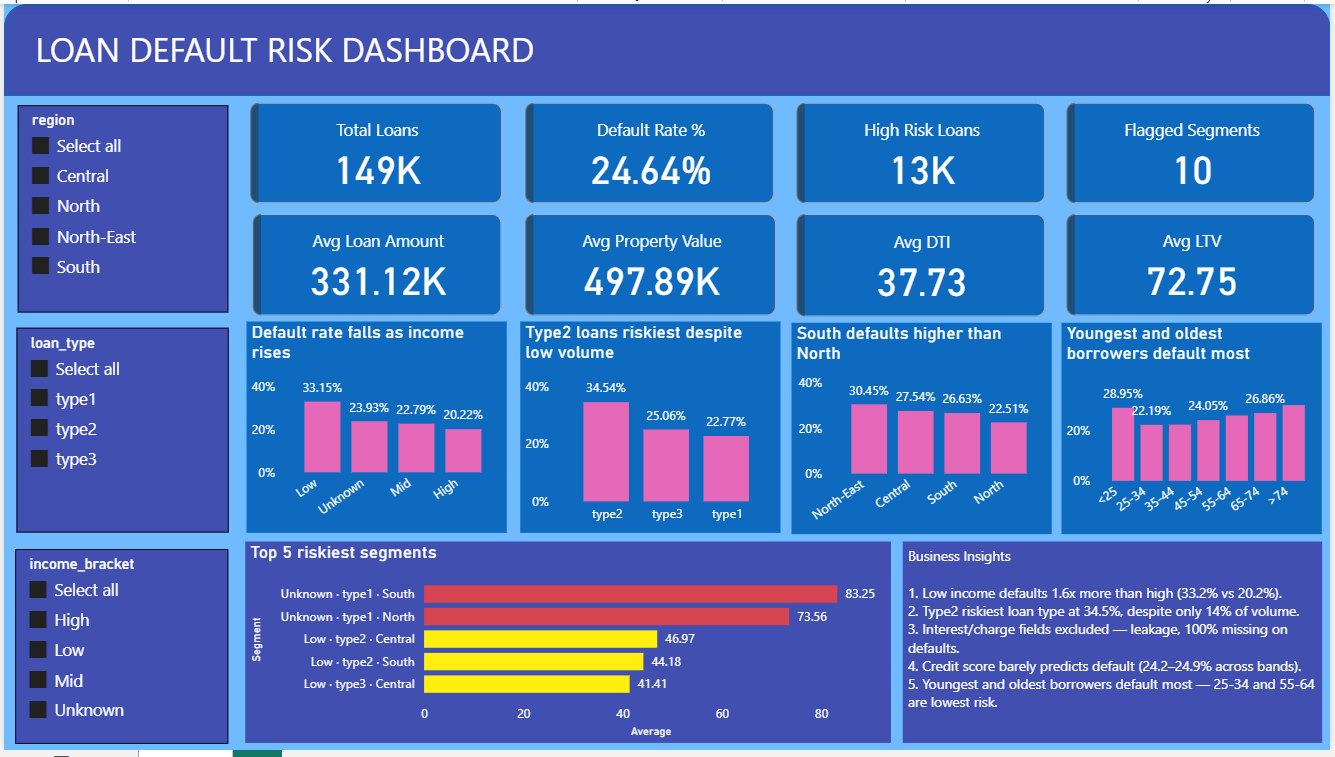

This screenshot's page, from the dashboard's own definition file:
{"tool":"powerbi","page":{"name":"Page 1","canvas":[1280,720],"ordinal":0},"visuals":[{"type":"shape","box":[0,0,1280,88.8],"z":0},{"type":"slicer","fields":{"Values":["public loan_clean.region"]},"box":[13.7,97.4,203.1,200.3],"z":1000},{"type":"cardVisual","fields":{"Data":["public loan_clean.Default Rate %"]},"box":[498.3,90.5,250.9,107.4],"z":2000},{"type":"slicer","fields":{"Values":["public loan_clean.loan_type"]},"box":[12.3,312.9,204.5,197.6],"z":3000},{"type":"cardVisual","fields":{"Data":["public loan_risk_segments.High Risk Loans"]},"box":[760.1,90.5,250.9,107.4],"z":4000},{"type":"slicer","fields":{"Values":["public loan_risk_segments.income_bracket"]},"box":[11,525.6,205.8,188],"z":5000},{"type":"cardVisual","fields":{"Data":["public loan_risk_segments.Flagged Segments"]},"box":[1020.6,90.5,250.9,107.4],"z":6000},{"type":"cardVisual","fields":{"Data":["public loan_clean.Avg Loan Amount"]},"box":[235.3,197.9,250.9,108.6],"z":7000},{"type":"cardVisual","fields":{"Data":["public loan_clean.Avg Property Value"]},"box":[498.3,197.9,252.1,108.6],"z":8000},{"type":"cardVisual","fields":{"Data":["public loan_clean.Avg DTI"]},"box":[760.1,197.9,250.9,109.8],"z":9000},{"type":"cardVisual","fields":{"Data":["public loan_clean.Avg LTV"]},"box":[1020.6,197.9,250.9,108.6],"z":10000},{"type":"clusteredColumnChart","title":"Default rate falls as income rises","fields":{"Category":["public loan_clean.income_bracket"],"Y":["public loan_clean.Default Rate %"]},"box":[233.6,306,251.6,203.8],"z":11000},{"type":"clusteredColumnChart","title":"Type2 loans riskiest despite low volume","fields":{"Y":["public loan_clean.Default Rate %"],"Category":["public loan_clean.loan_type"]},"box":[498.1,306,251.6,203.8],"z":12000},{"type":"clusteredColumnChart","title":"South defaults higher than North","fields":{"Y":["public loan_clean.Default Rate %"],"Category":["public loan_clean.region"]},"box":[759.9,307.2,251.6,203.8],"z":13000},{"type":"clusteredColumnChart","title":"Youngest and oldest borrowers default most","fields":{"Y":["public loan_clean.Default Rate %"],"Category":["public loan_clean.age"]},"box":[1020.5,307.2,251.6,203.8],"z":14000},{"type":"clusteredBarChart","title":"Top 5 riskiest segments","fields":{"Category":["public loan_risk_segments.Segment"],"Y":["Sum(public loan_risk_segments.default_rate_pct)"]},"box":[233.3,519.2,623.4,194.3],"z":15000},{"type":"textbox","box":[867,519.2,404.9,194.3],"z":16000},{"type":"cardVisual","fields":{"Data":["public loan_clean.Total Loans"]},"box":[232.8,90.5,253.4,107.4],"z":17000},{"type":"textbox","box":[25.3,16.9,564.6,56.7],"z":18000}]}

Visuals, with their boxes in screenshot pixels (x1, y1, x2, y2), scaled from the page's 1280x720 canvas onto the 1335x757 screenshot:
shape: [0, 0, 1334, 93]
slicer - public loan_clean.region: [14, 102, 226, 313]
cardVisual - public loan_clean.Default Rate %: [520, 95, 781, 208]
slicer - public loan_clean.loan_type: [13, 329, 226, 537]
cardVisual - public loan_risk_segments.High Risk Loans: [793, 95, 1054, 208]
slicer - public loan_risk_segments.income_bracket: [11, 553, 226, 750]
cardVisual - public loan_risk_segments.Flagged Segments: [1064, 95, 1326, 208]
cardVisual - public loan_clean.Avg Loan Amount: [245, 208, 507, 322]
cardVisual - public loan_clean.Avg Property Value: [520, 208, 783, 322]
cardVisual - public loan_clean.Avg DTI: [793, 208, 1054, 324]
cardVisual - public loan_clean.Avg LTV: [1064, 208, 1326, 322]
"Default rate falls as income rises" clusteredColumnChart: [244, 322, 506, 536]
"Type2 loans riskiest despite low volume" clusteredColumnChart: [520, 322, 782, 536]
"South defaults higher than North" clusteredColumnChart: [793, 323, 1055, 537]
"Youngest and oldest borrowers default most" clusteredColumnChart: [1064, 323, 1327, 537]
"Top 5 riskiest segments" clusteredBarChart: [243, 546, 894, 750]
textbox: [904, 546, 1327, 750]
cardVisual - public loan_clean.Total Loans: [243, 95, 507, 208]
textbox: [26, 18, 615, 77]
